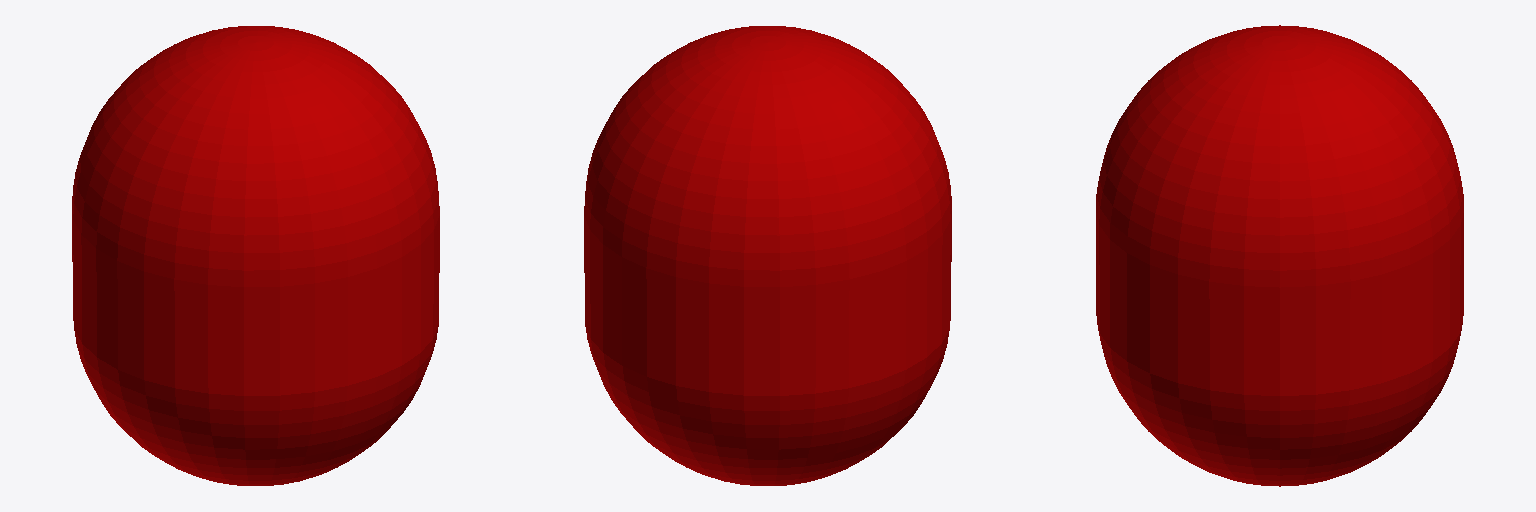
Rendered from boje_2.obj.
3 renders of one model, left to right at view 1: azimuth 30°, elevation 25°; view 2: azimuth 150°, elevation 25°; view 3: azimuth 270°, elevation 25°, orthographic.
Size of the model in its own units: 1 by 1.28 by 1.